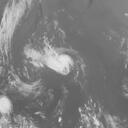cyclone: (49, 51, 77, 76)
